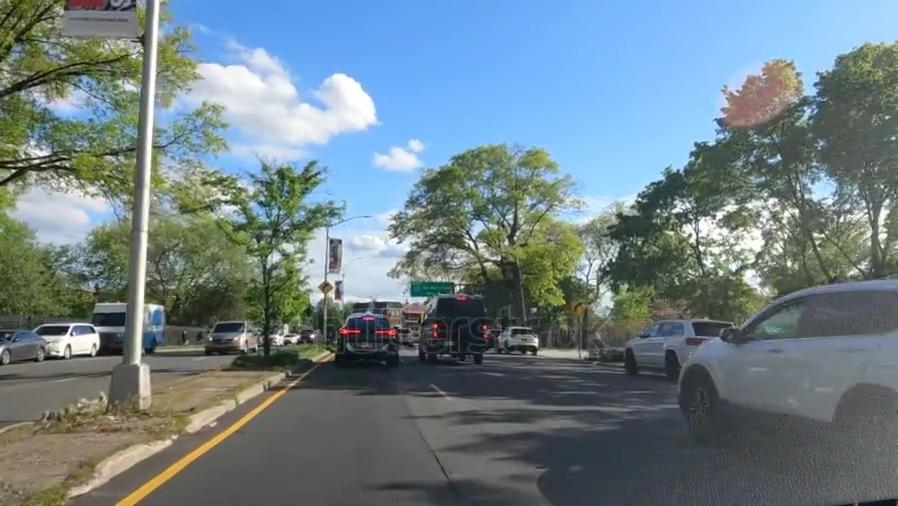car: (710, 282, 897, 468), (620, 315, 710, 375), (35, 324, 98, 356), (0, 327, 49, 368), (200, 320, 259, 352), (502, 323, 545, 354)
van: (422, 291, 490, 359), (89, 303, 165, 354), (339, 311, 400, 363)
wheel: (843, 404, 898, 491), (685, 374, 715, 443)
